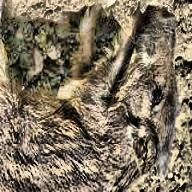boar: (0, 0, 186, 192)
